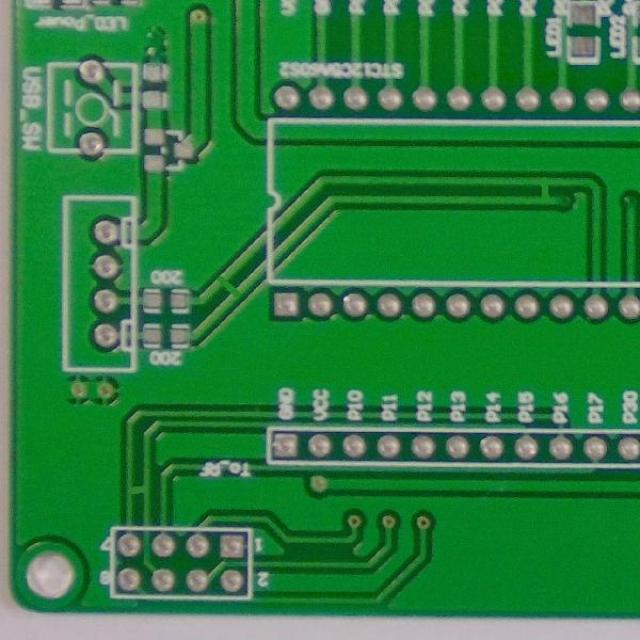short: (525, 174, 562, 212), (212, 272, 248, 303), (122, 477, 154, 502)
